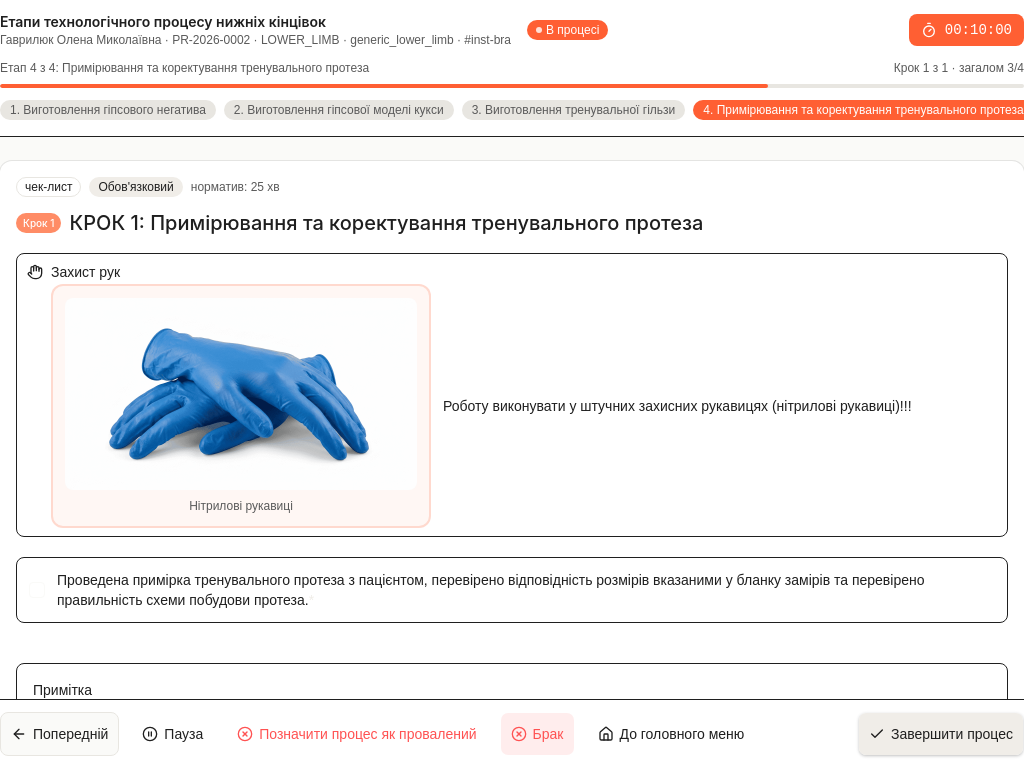
Scenario: WizardScreen — Брак › stage-selection has exactly 3 options
Click the button "Брак" at (537, 734), box [500,712,574,756]
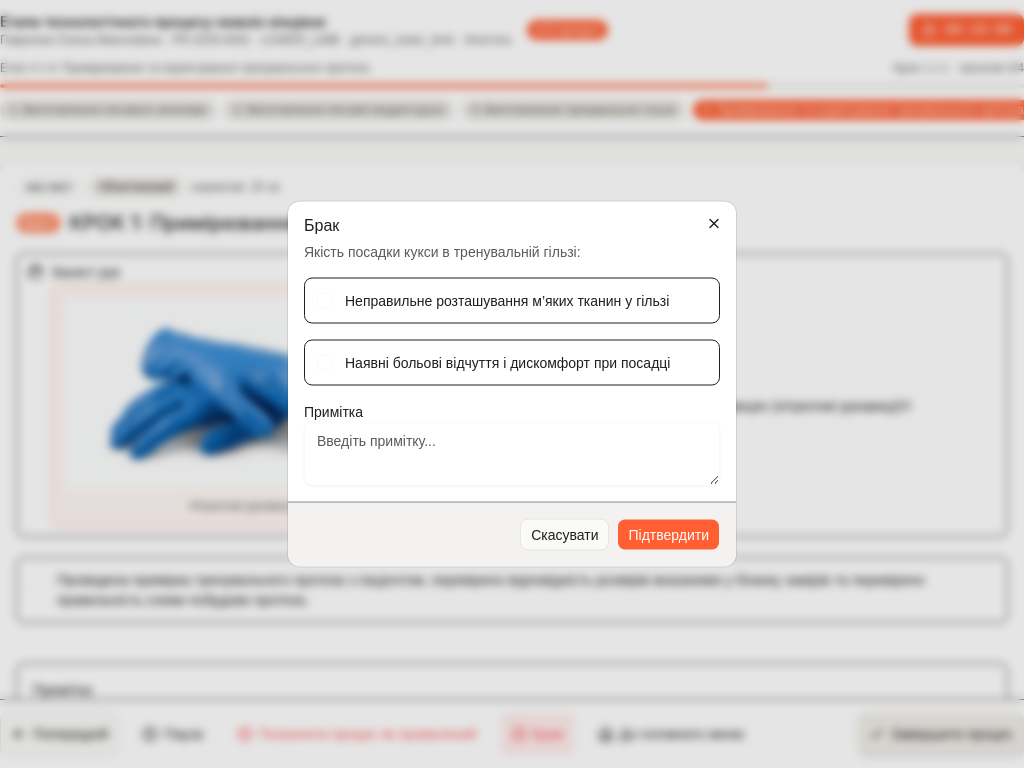
expect the text "Якість посадки кукси в тренувальній гільзі:" is shown: met, box [304,244,581,260]
Click the button "Підтвердити" at (669, 534), box [618,518,720,550]
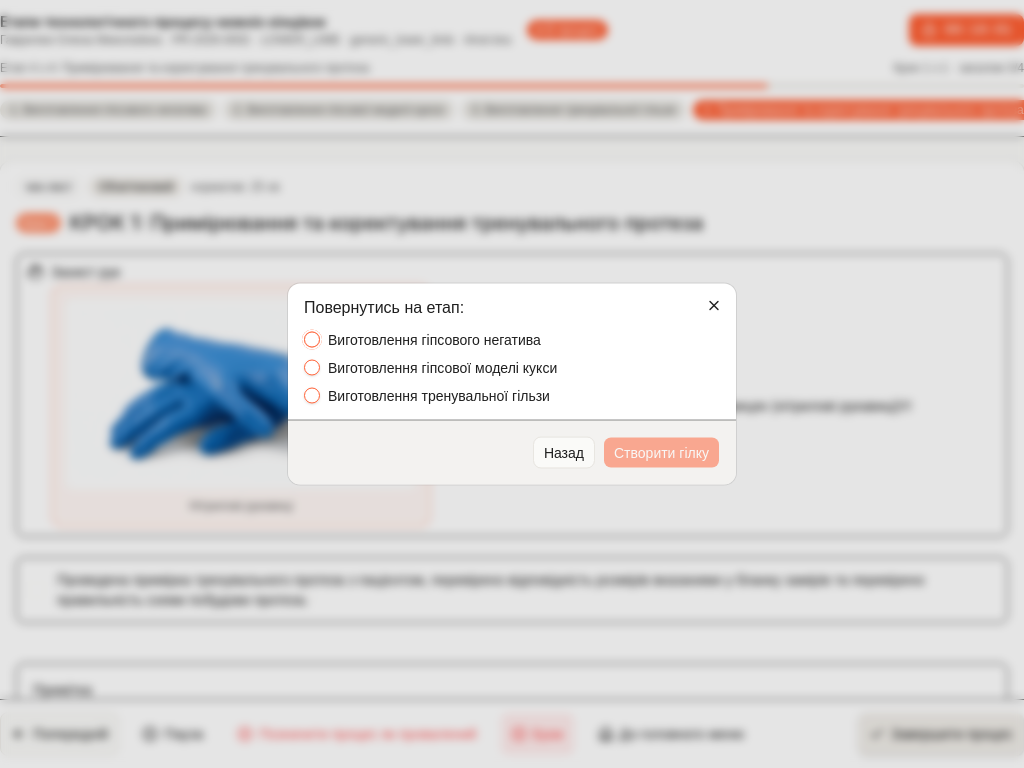
expect the heading "Повернутись на етап:" is shown: met, box [304,298,464,316]
expect the 1st radio button named "Виготовлення гіпсового негатива" is shown: met, box [304,332,320,348]
expect the 2nd radio button named "Виготовлення гіпсової моделі кукси" is shown: met, box [304,360,320,376]
